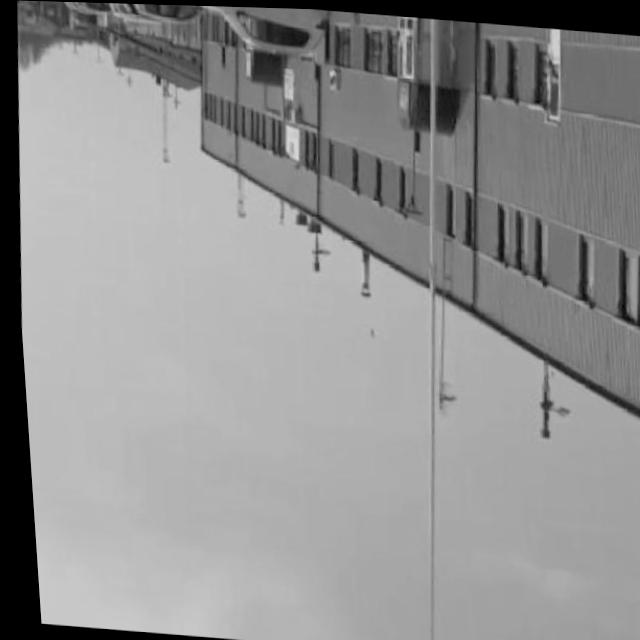helikopter: (360, 318, 374, 340)
